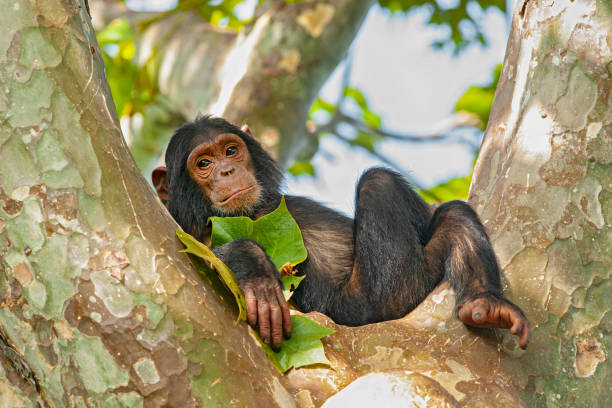chimpanzee: (131, 91, 292, 252)
